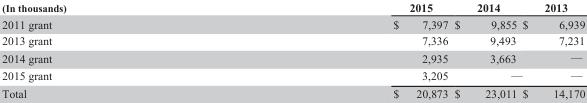table: (1, 0, 584, 99)
table column: (1, 0, 229, 99), (229, 0, 450, 99), (450, 0, 521, 99), (521, 0, 584, 99)
table column header: (1, 0, 584, 15)
table row: (1, 48, 584, 66), (1, 66, 584, 84), (1, 15, 584, 32), (1, 32, 584, 48), (1, 0, 584, 15), (1, 84, 584, 99)
